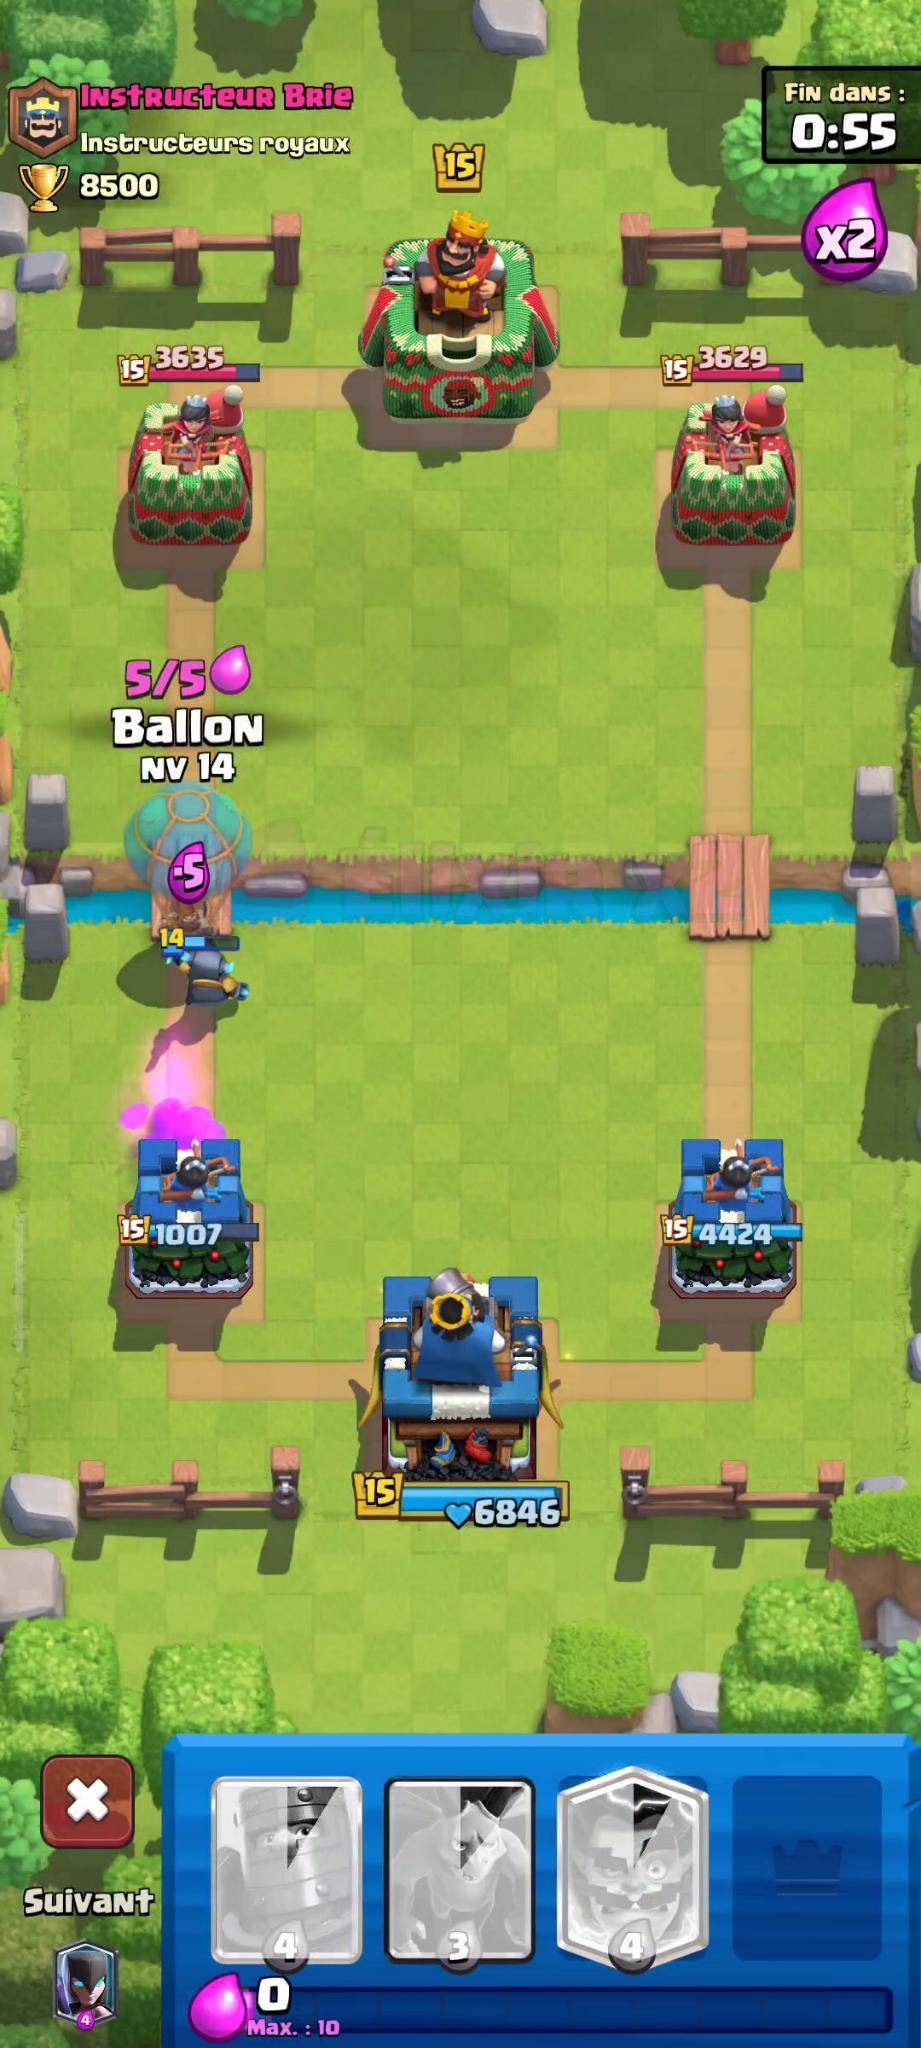mini_PEKKA: (150, 925, 259, 1023)
